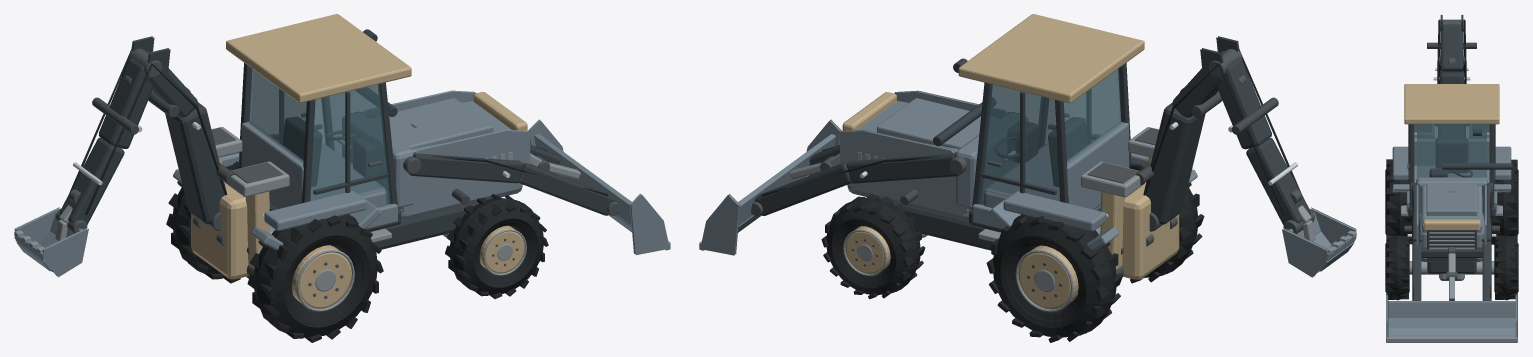
The model's file is john-deere-310-p-tier-structural-study.glb.
3 views of the same model, side by side, from view 1: azimuth 30°, elevation 25°; view 2: azimuth 150°, elevation 25°; view 3: azimuth 270°, elevation 25° (orthographic). The views are drawn at different scales.
Visible parts, largest first — view 1: Cab_Roof, CabGlass_Side_+1, RearRight_Tire, FrontRight_Tire, Hood_Profile_+1, BackhoeBoom_Lower, Engine_Hood_Crown, Backhoe_SwingFrame, CabGlass_Rear, CabGlass_Front, Cab_RearLowerPanel, LoaderBoom_Rear_+1 (+33 smaller); view 2: Cab_Roof, CabGlass_Side_-1, RearLeft_Tire, FrontLeft_Tire, Hood_Profile_-1, BackhoeBoom_Lower, Backhoe_SwingFrame, CabGlass_Rear, Engine_Hood_Crown, CabGlass_Front, Cab_RearLowerPanel, LoaderBoom_Rear_-1 (+34 smaller); view 3: Cab_Roof, CabGlass_Front, FrontBucket_Shell_03, Engine_Hood_Crown, FrontBucket_Shell_02, Cab_RearLowerPanel, FrontLeft_Tire, FrontRight_Tire, BackhoeBoom_Upper, FrontBucket_Shell_01, CabGlass_Rear, RearRight_Tire (+40 smaller).
Part boxes in pixels (x1,y1,x2,y2): Cab_Roof: [226, 14, 411, 103]; CabGlass_Side_+1: [310, 84, 391, 204]; RearRight_Tire: [254, 214, 377, 336]; FrontRight_Tire: [450, 198, 543, 294]; Hood_Profile_+1: [402, 129, 530, 213]; BackhoeBoom_Lower: [165, 102, 226, 224]; Engine_Hood_Crown: [371, 98, 493, 148]; Backhoe_SwingFrame: [191, 182, 248, 279]; CabGlass_Rear: [249, 69, 306, 162]; CabGlass_Front: [327, 85, 388, 200]; Cab_RearLowerPanel: [241, 121, 310, 209]; LoaderBoom_Rear_+1: [408, 152, 523, 183]; Cab_Roof: [958, 14, 1144, 103]; CabGlass_Side_-1: [979, 84, 1060, 204]; RearLeft_Tire: [993, 214, 1116, 337]; FrontLeft_Tire: [826, 198, 920, 294]; Hood_Profile_-1: [840, 130, 968, 214]; BackhoeBoom_Lower: [1144, 102, 1205, 224]; Backhoe_SwingFrame: [1122, 182, 1179, 279]; CabGlass_Rear: [1063, 68, 1121, 163]; Engine_Hood_Crown: [877, 98, 998, 148]; CabGlass_Front: [981, 85, 1042, 201]; Cab_RearLowerPanel: [1066, 122, 1128, 209]; LoaderBoom_Rear_-1: [846, 152, 961, 183]; Cab_Roof: [1404, 84, 1499, 124]; CabGlass_Front: [1417, 124, 1486, 177]; FrontBucket_Shell_03: [1388, 301, 1515, 317]; Engine_Hood_Crown: [1426, 184, 1477, 215]; FrontBucket_Shell_02: [1388, 317, 1515, 327]; Cab_RearLowerPanel: [1414, 138, 1489, 165]; FrontLeft_Tire: [1494, 235, 1518, 300]; FrontRight_Tire: [1385, 235, 1409, 300]; BackhoeBoom_Upper: [1440, 24, 1463, 71]; FrontBucket_Shell_01: [1388, 328, 1515, 335]; CabGlass_Rear: [1417, 124, 1486, 138]; RearRight_Tire: [1385, 161, 1411, 241].
Size of the model in its own units: 7.24 by 3.39 by 2.2.
